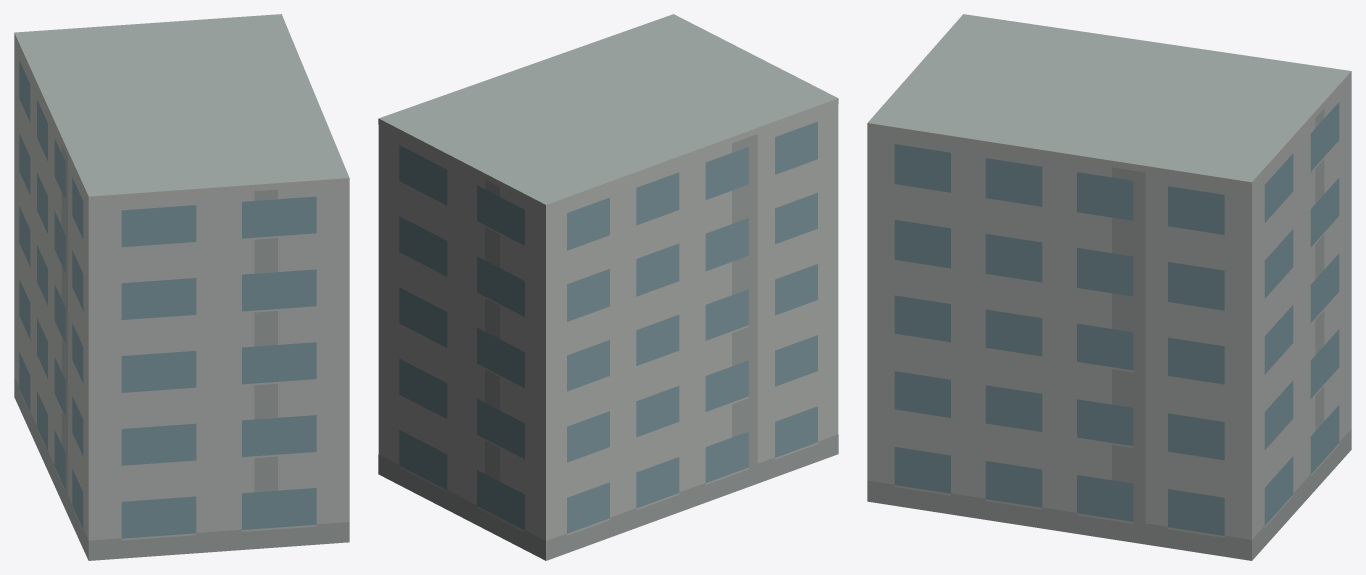
Rendered from survey-upis-32884094.glb.
3 renders of one model, left to right at view 1: azimuth 30°, elevation 25°; view 2: azimuth 150°, elevation 25°; view 3: azimuth 270°, elevation 25°, orthographic. The views are drawn at different scales.
Visible parts, largest first — view 1: survey-upis-32884094.tmp; view 2: survey-upis-32884094.tmp; view 3: survey-upis-32884094.tmp.
Part boxes in pixels (x1,y1,x2,y2): survey-upis-32884094.tmp: (14,14,349,560); survey-upis-32884094.tmp: (378,14,838,560); survey-upis-32884094.tmp: (867,14,1351,560).
Bounding box in the file's own units: 13.26 × 13.9 × 16.12.
